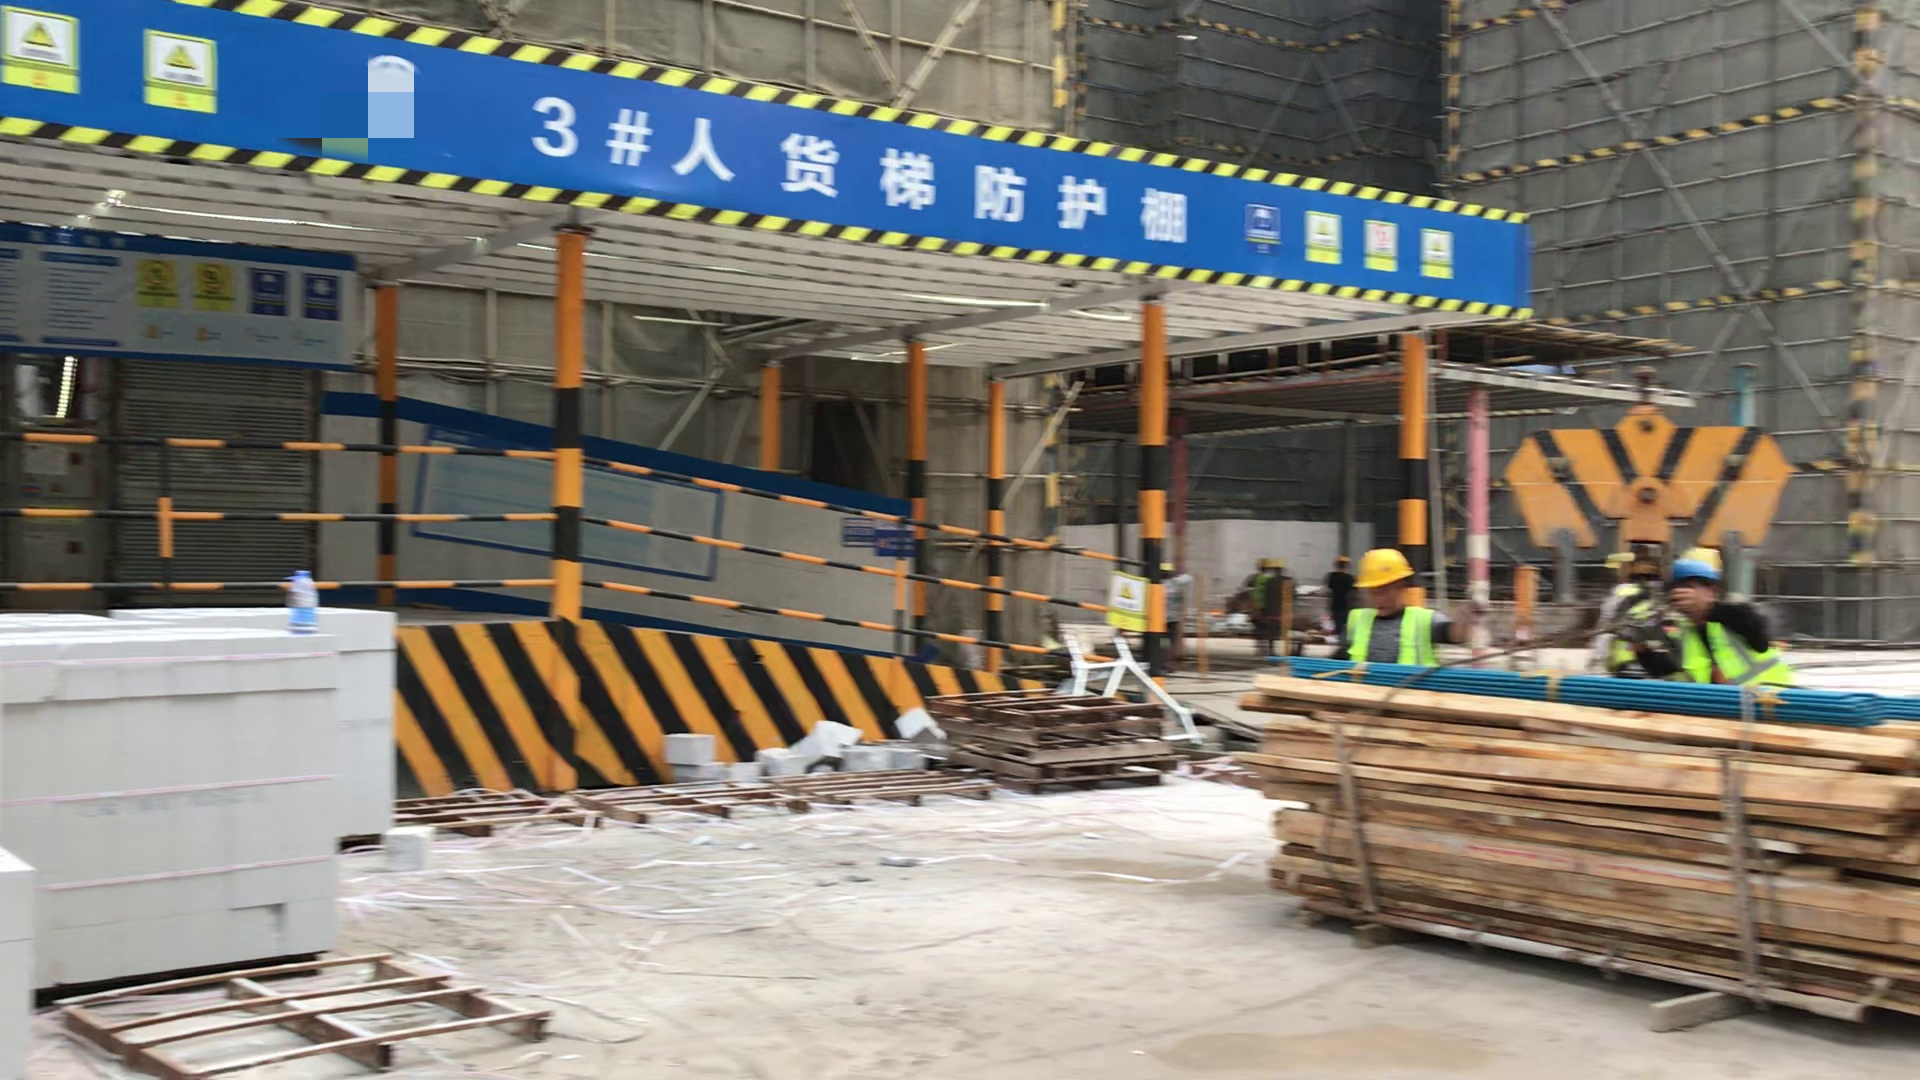brick: (1, 595, 432, 983)
helmet: (1356, 544, 1416, 591), (1670, 548, 1725, 583), (1254, 556, 1284, 572), (1332, 548, 1351, 571)
hook: (1515, 366, 1785, 616)
person: (1643, 553, 1792, 689), (1350, 544, 1450, 675), (1236, 553, 1300, 650), (1319, 548, 1353, 645)
slogan: (129, 245, 344, 358), (1240, 199, 1469, 283), (1, 8, 100, 101), (143, 23, 214, 123), (1099, 569, 1148, 641)
vest: (1649, 613, 1788, 687), (1351, 609, 1447, 670), (1247, 572, 1273, 609)
wood: (1246, 676, 1920, 1019)
